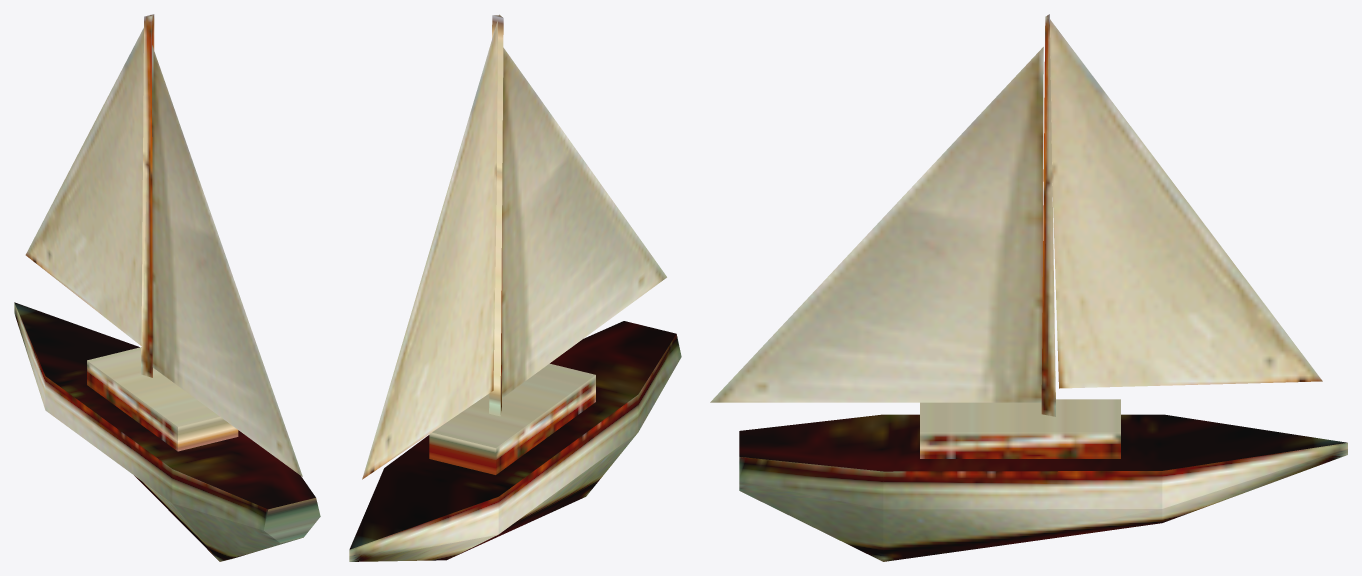
Rendered from SailBoat.glb.
3 views of the same model, side by side, from view 1: azimuth 30°, elevation 25°; view 2: azimuth 150°, elevation 25°; view 3: azimuth 270°, elevation 25° (orthographic). The views are drawn at different scales.
Parts seen in each view (by area): view 1: SailBoat; view 2: SailBoat; view 3: SailBoat.
Boxes of the visible parts, x1,y1,x2,y2 form: SailBoat: [14, 14, 320, 561]; SailBoat: [349, 14, 681, 561]; SailBoat: [710, 14, 1347, 561].
Size of the model in its own units: 31.86 by 142 by 151.
1 material, 1 textured.
